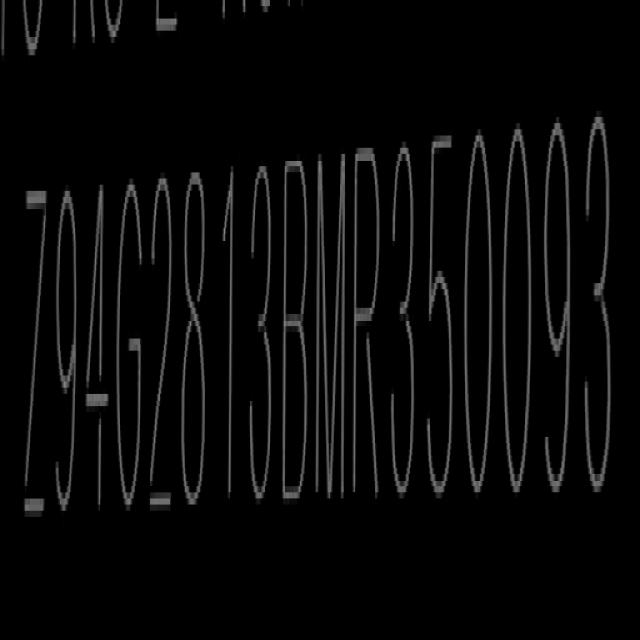0: (503, 126, 537, 507), (462, 125, 494, 502)
1: (220, 158, 240, 516)
2: (148, 170, 175, 525)
3: (586, 111, 620, 501), (393, 137, 421, 508), (249, 159, 276, 515)
4: (85, 182, 115, 524)
5: (428, 130, 458, 507)
8: (182, 170, 210, 518)
9: (543, 114, 576, 506), (50, 181, 78, 531)
B: (283, 148, 314, 509)
G: (115, 178, 142, 513)
M: (316, 145, 348, 509)
R: (352, 142, 384, 508)
Z: (20, 181, 48, 538)
